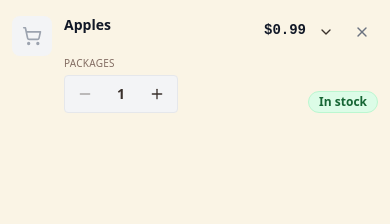
Test case: ReceiptItem package calculations › uses package pricing when package metadata is present
expect the text "$0.99" is shown: met, box [264, 22, 306, 38]
Click the button named "expand item details" at (326, 32), box [310, 16, 342, 48]
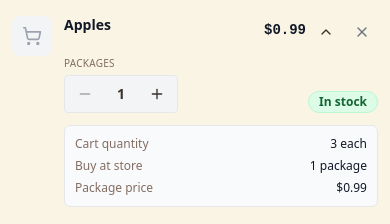
expect the text "Buy at store" is shown: met, box [75, 158, 142, 174]
expect the text "1 package" is shown: met, box [310, 158, 367, 174]
expect the text "Package price" is shown: met, box [75, 180, 153, 196]
